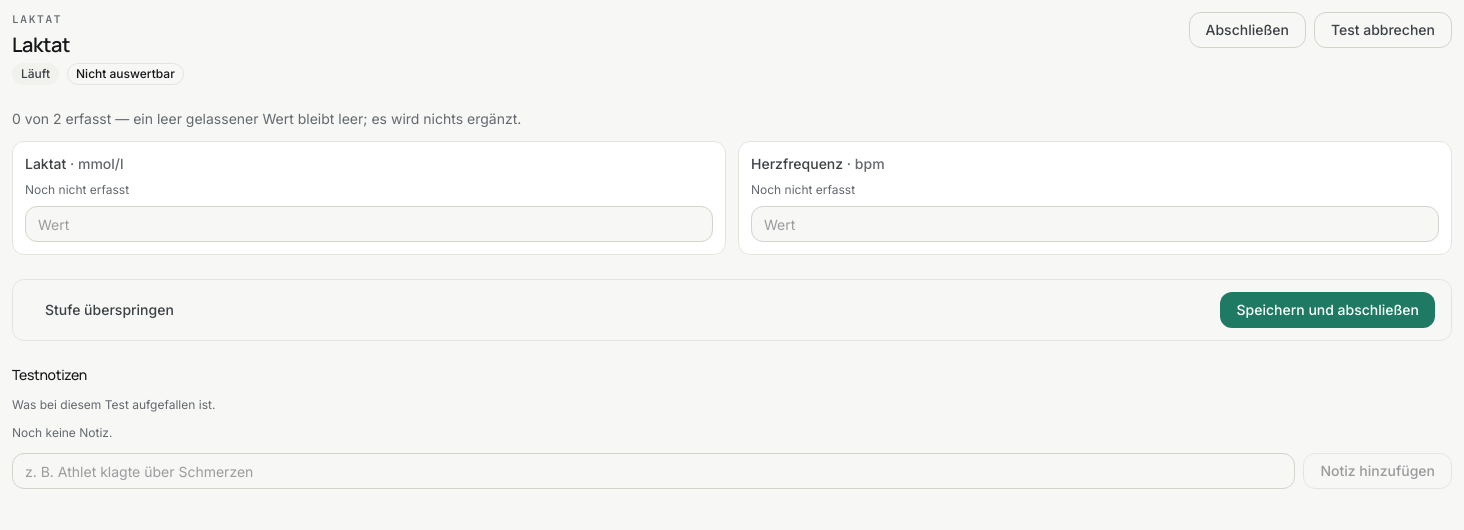
it: moving on after a stage › puts a refusal on the field it belongs to
Type "2.4" into the field labelled "Laktat".
click(369, 224); type("2.4")  # box [25,206,713,242]
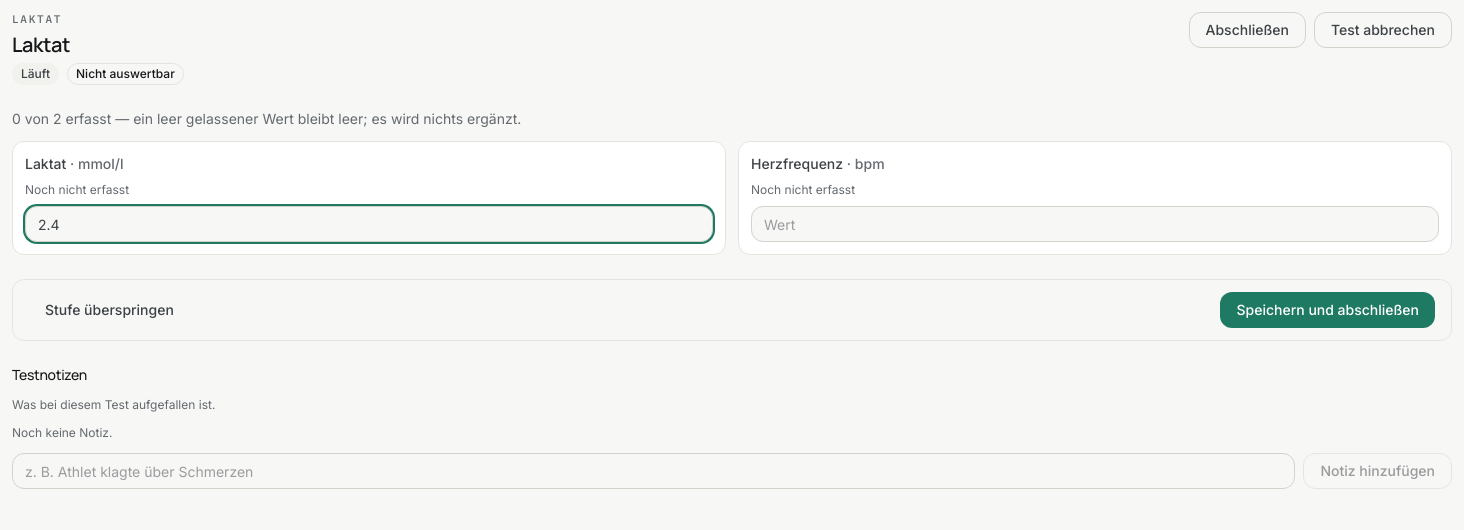
Click the button "Speichern und abschließen".
click(1328, 310)  # box [1220,292,1435,328]
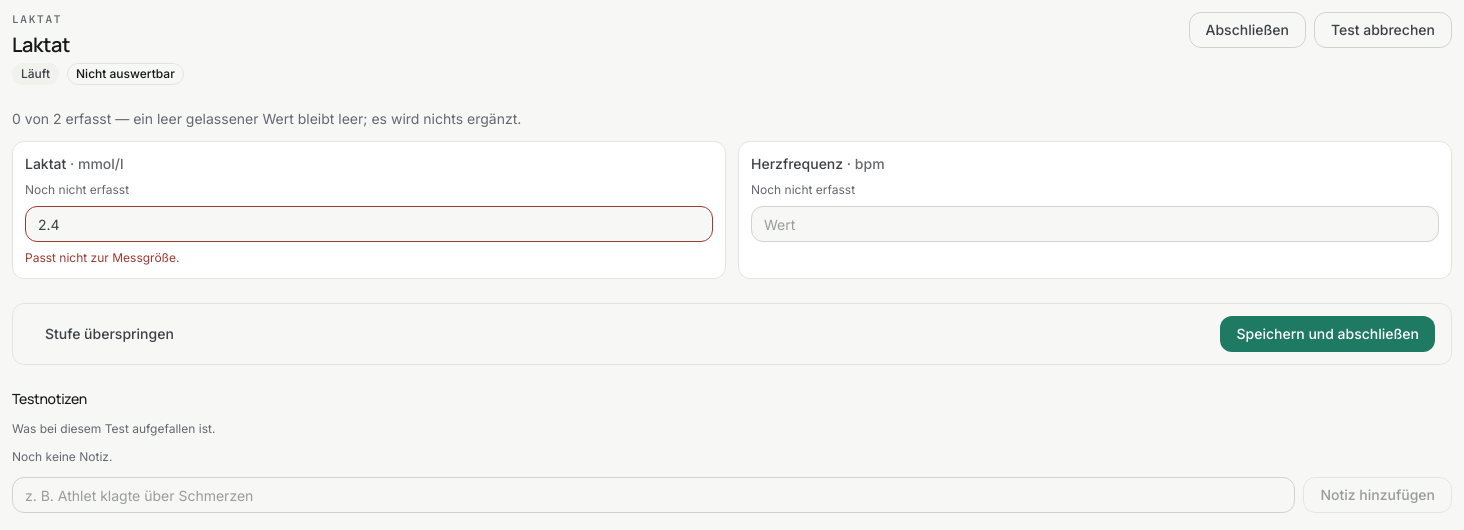
Result: the message "Passt nicht zur Messgröße." is shown at [25,250,180,265]
